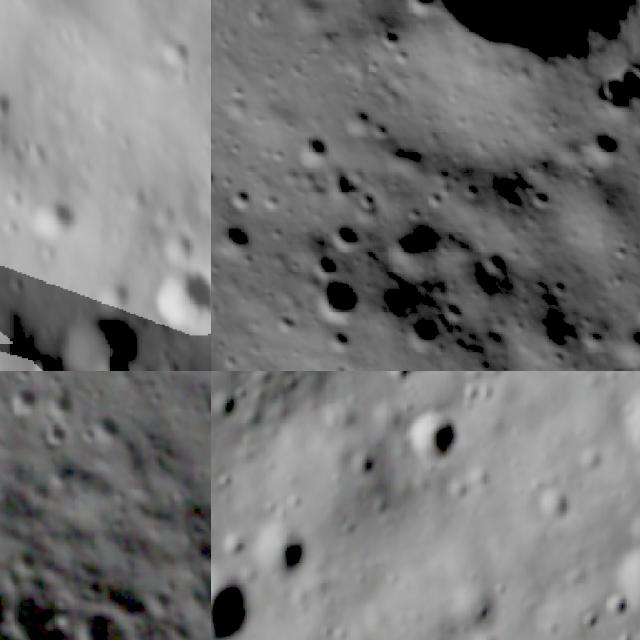crater: (404, 0, 598, 102), (61, 306, 152, 371), (301, 260, 370, 328), (56, 589, 144, 640), (150, 259, 211, 332), (0, 580, 67, 640), (256, 525, 316, 579), (391, 306, 446, 361), (27, 191, 84, 243), (211, 565, 250, 640), (0, 371, 51, 425), (317, 210, 368, 261), (574, 115, 624, 167), (587, 67, 636, 120), (34, 377, 84, 428), (88, 400, 136, 450), (211, 214, 257, 265), (288, 126, 337, 172), (407, 418, 455, 464), (315, 317, 360, 362), (152, 222, 205, 259), (155, 24, 192, 74), (183, 521, 211, 581), (218, 180, 260, 219), (38, 412, 78, 452), (305, 243, 344, 284), (322, 164, 362, 203), (369, 371, 435, 394), (156, 608, 203, 640), (366, 16, 403, 54), (349, 182, 385, 220), (538, 489, 576, 524), (267, 305, 302, 342), (477, 237, 512, 274), (393, 0, 442, 23), (526, 180, 560, 213), (624, 550, 640, 619), (386, 40, 416, 71), (350, 448, 380, 479), (94, 353, 145, 371), (74, 420, 103, 451), (0, 76, 18, 120), (35, 344, 64, 371), (211, 152, 226, 201), (6, 371, 40, 388), (606, 594, 624, 624), (211, 289, 224, 330), (630, 134, 640, 179)
